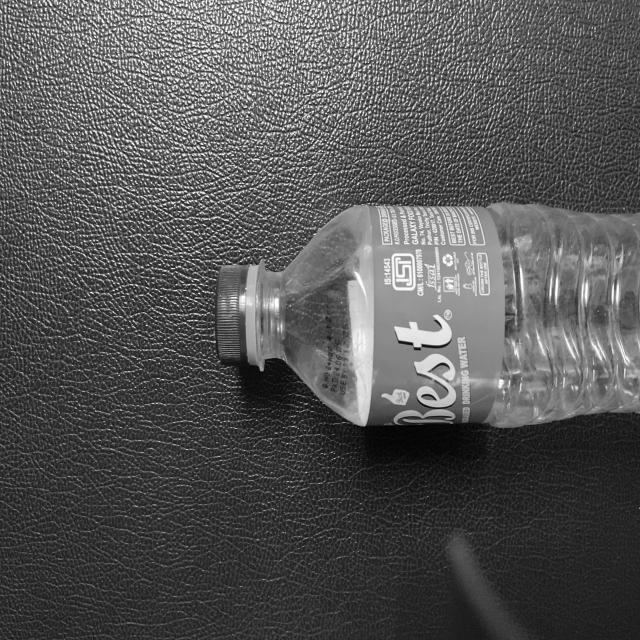Good-cap-Df0S: (214, 258, 265, 374)
